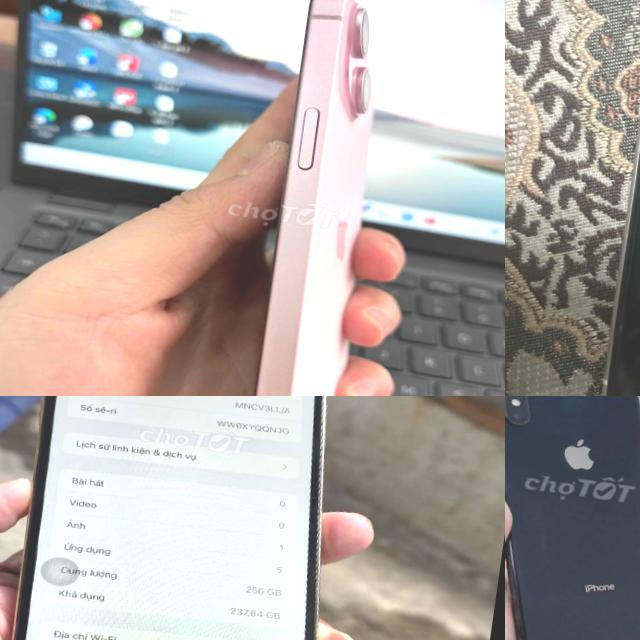gen_11: (592, 0, 640, 396)
gen_12_13: (0, 396, 377, 640)
gen_15: (198, 0, 433, 396)
gen_x_xs: (505, 396, 640, 640)
scratch: (523, 418, 534, 428)
